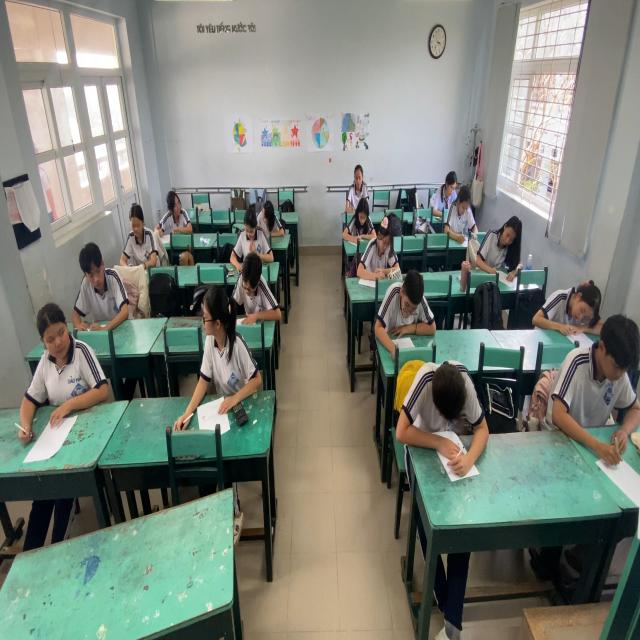cheating: (24, 299, 95, 429), (188, 287, 250, 415), (70, 241, 122, 327), (161, 187, 191, 242), (254, 194, 283, 243)
not_cheating: (569, 292, 634, 462), (416, 350, 491, 486), (378, 262, 438, 351), (549, 262, 599, 338), (235, 252, 277, 319), (118, 200, 153, 272), (486, 204, 517, 278), (364, 212, 394, 278), (238, 206, 270, 264), (431, 164, 460, 220), (449, 177, 475, 236), (346, 157, 370, 206), (349, 188, 368, 235)
